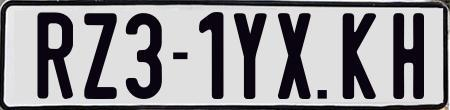1: (197, 11, 224, 101)
3: (123, 12, 161, 103)
H: (392, 10, 428, 98)
K: (342, 11, 379, 101)
R: (37, 11, 77, 99)
X: (275, 13, 310, 105)
Y: (233, 13, 271, 100)
Z: (84, 13, 117, 105)
